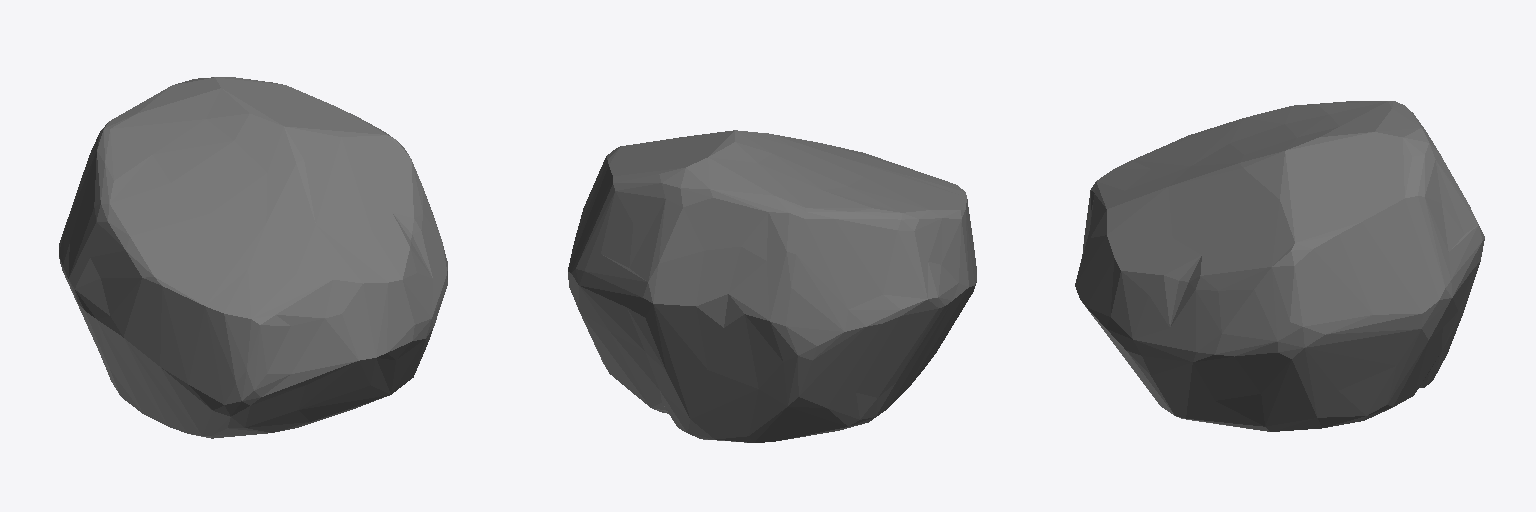
File: stone_2_low.obj
3 renders of one model, left to right at view 1: azimuth 30°, elevation 25°; view 2: azimuth 150°, elevation 25°; view 3: azimuth 270°, elevation 25°, orthographic.
Visible parts, largest first — view 1: stone_2_low:Group62285; view 2: stone_2_low:Group62285; view 3: stone_2_low:Group62285.
Part boxes in pixels (x1,y1,x2,y2): stone_2_low:Group62285: (59, 77, 447, 438); stone_2_low:Group62285: (568, 130, 976, 442); stone_2_low:Group62285: (1075, 101, 1484, 431).
Size of the model in its own units: 35.01 by 24.79 by 35.37.